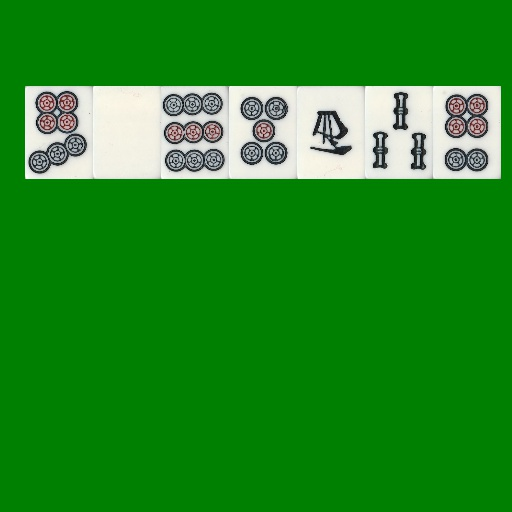3s: (365, 86, 433, 179)
5p: (229, 86, 297, 179)
6p: (433, 86, 501, 179)
7p: (25, 86, 93, 179)
9p: (161, 86, 229, 179)
west: (297, 86, 365, 179)
white: (93, 86, 161, 179)
